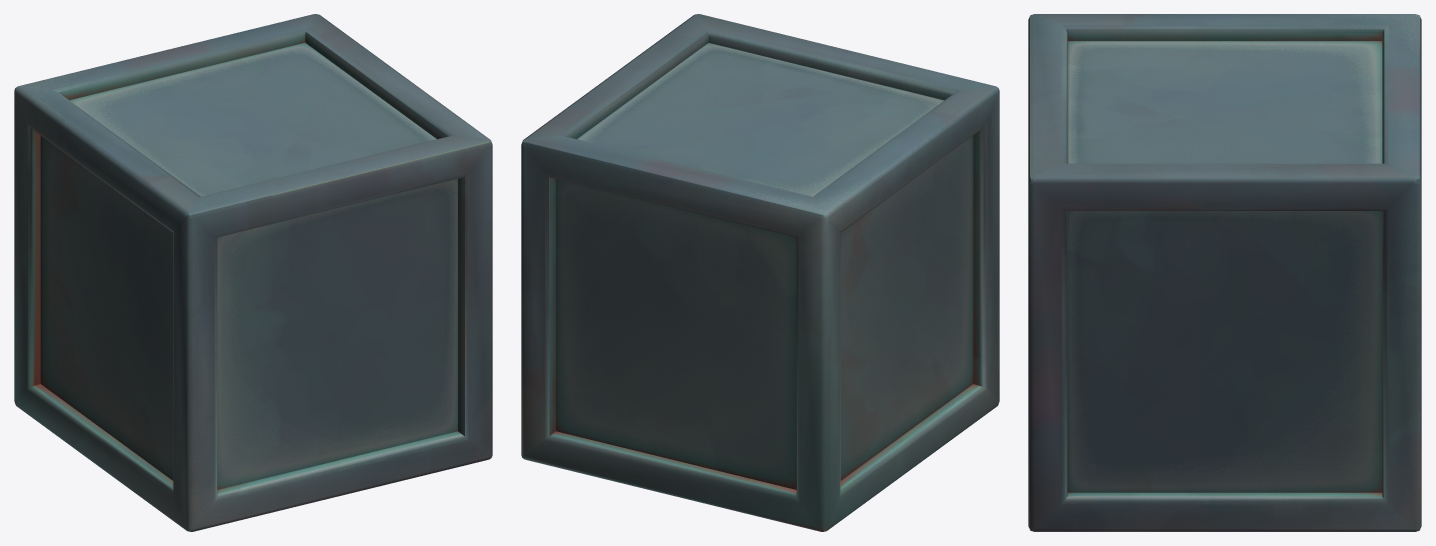
The model's file is pip2_crate_0.5_bm.fbx.
The picture shows the model from 3 angles, left to right: view 1: azimuth 30°, elevation 25°; view 2: azimuth 150°, elevation 25°; view 3: azimuth 270°, elevation 25°; orthographic projection. The views are drawn at different scales.
Parts seen in each view (by area): view 1: Box_0.5m; view 2: Box_0.5m; view 3: Box_0.5m.
Part boxes in pixels (<box>): Box_0.5m: <box>14,14,492,531</box>; Box_0.5m: <box>521,14,999,531</box>; Box_0.5m: <box>1028,14,1421,531</box>.
Size of the model in its own units: 59.79 by 59.79 by 59.79.
1 material, 1 textured.
